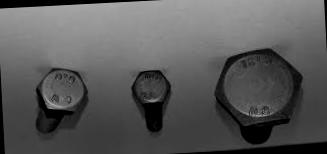screw: (211, 46, 305, 128), (34, 66, 88, 118), (128, 70, 172, 108)
